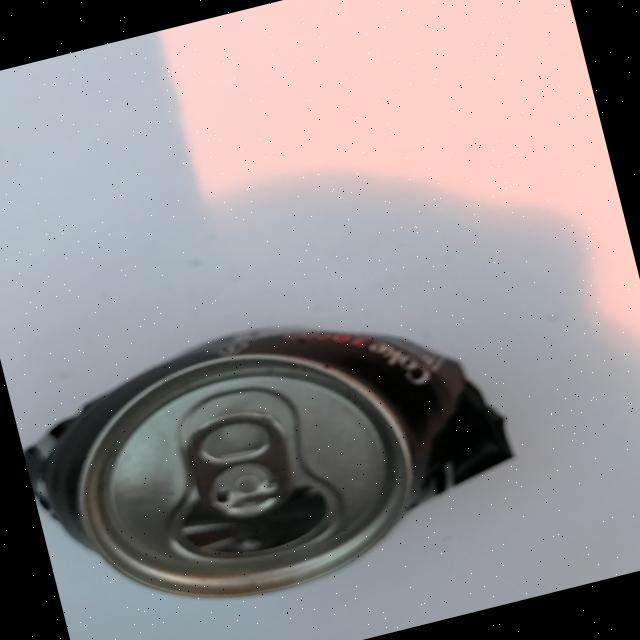metal: (8, 271, 533, 640)
